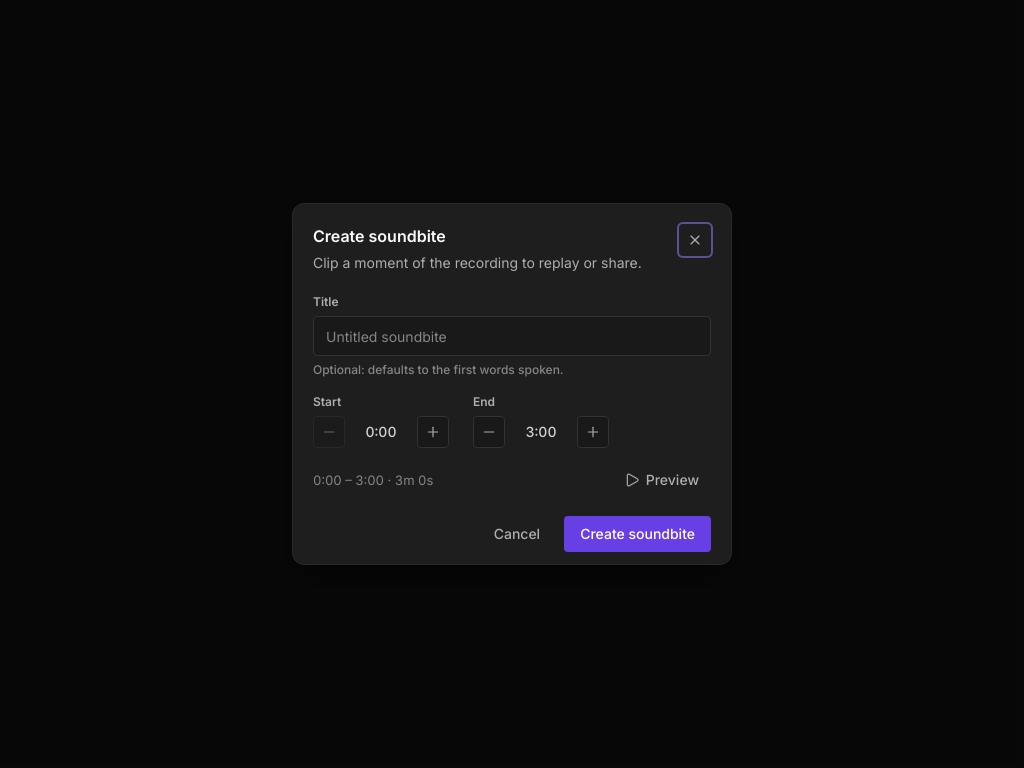
CreateSoundbiteModal › explains a clip longer than 3 minutes
What coordinates should you click on to do the following:
click the button named "End 1 second later"
I would click on:
 (593, 432)
Its box is [577, 416, 609, 448].
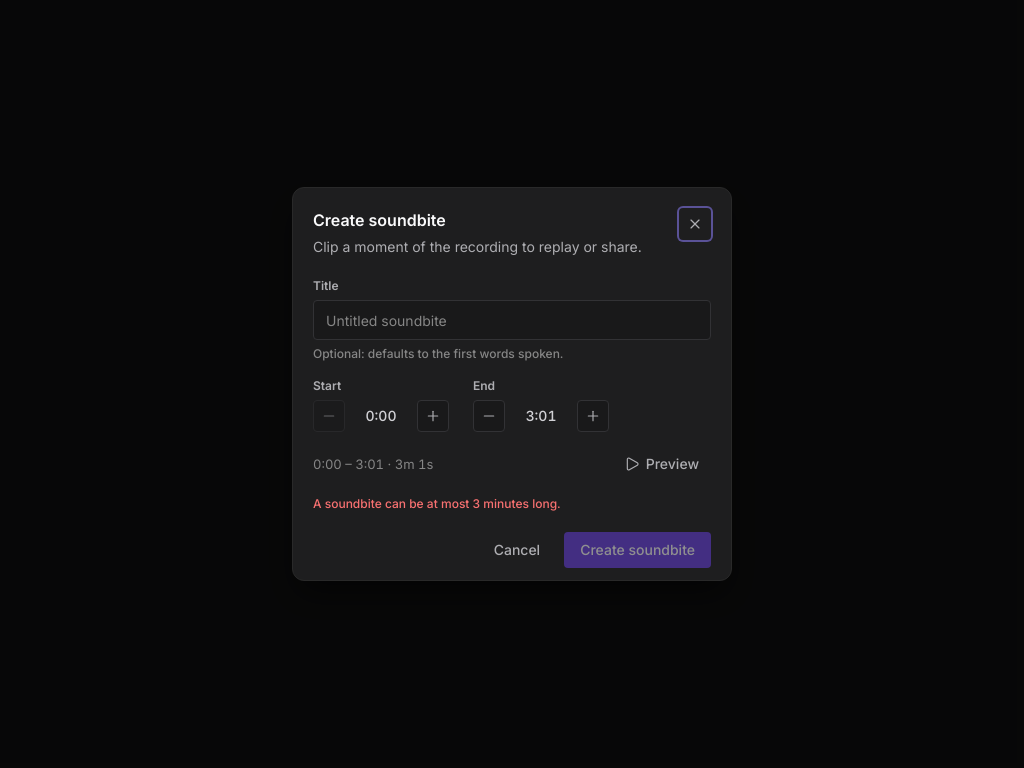
Expected: the message reads "A soundbite can be at most 3 minutes long.", [313, 496, 561, 511]
